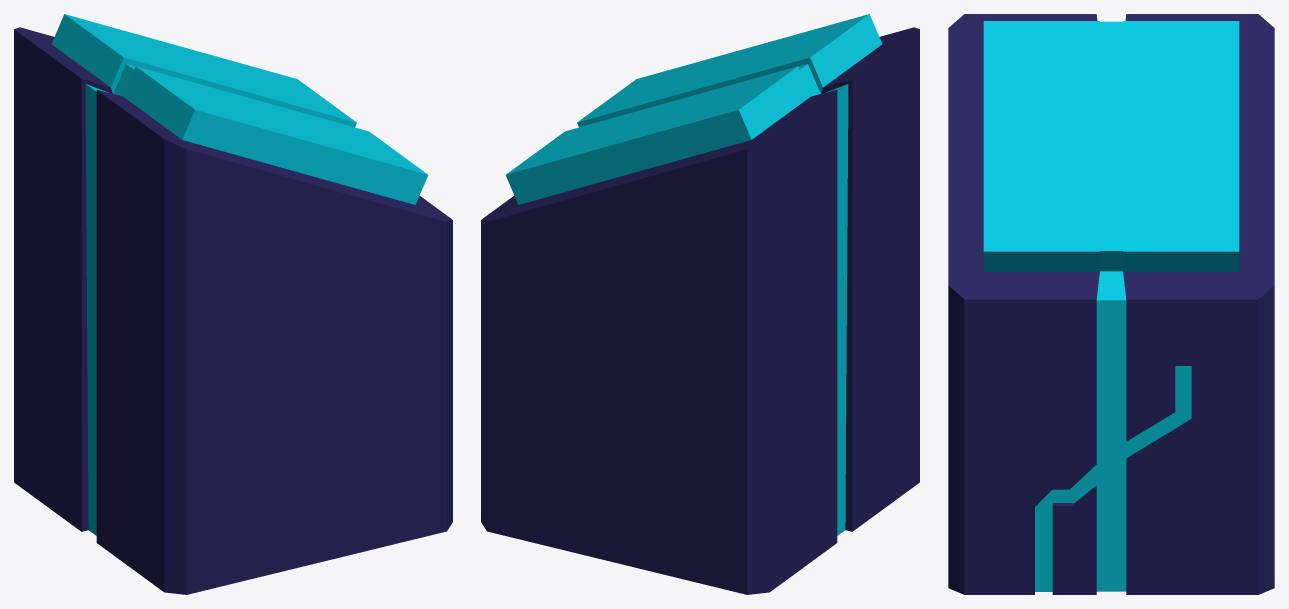
The model's file is Panel.fbx.
3 views of the same model, side by side, from view 1: azimuth 30°, elevation 25°; view 2: azimuth 150°, elevation 25°; view 3: azimuth 270°, elevation 25° (orthographic). The views are drawn at different scales.
Parts seen in each view (by area): view 1: Cube; view 2: Cube; view 3: Cube.
Part boxes in pixels (<box>): Cube: <box>14,14,452,594</box>; Cube: <box>481,14,919,594</box>; Cube: <box>948,14,1274,594</box>.
Size of the model in its own units: 200 by 308 by 200.
